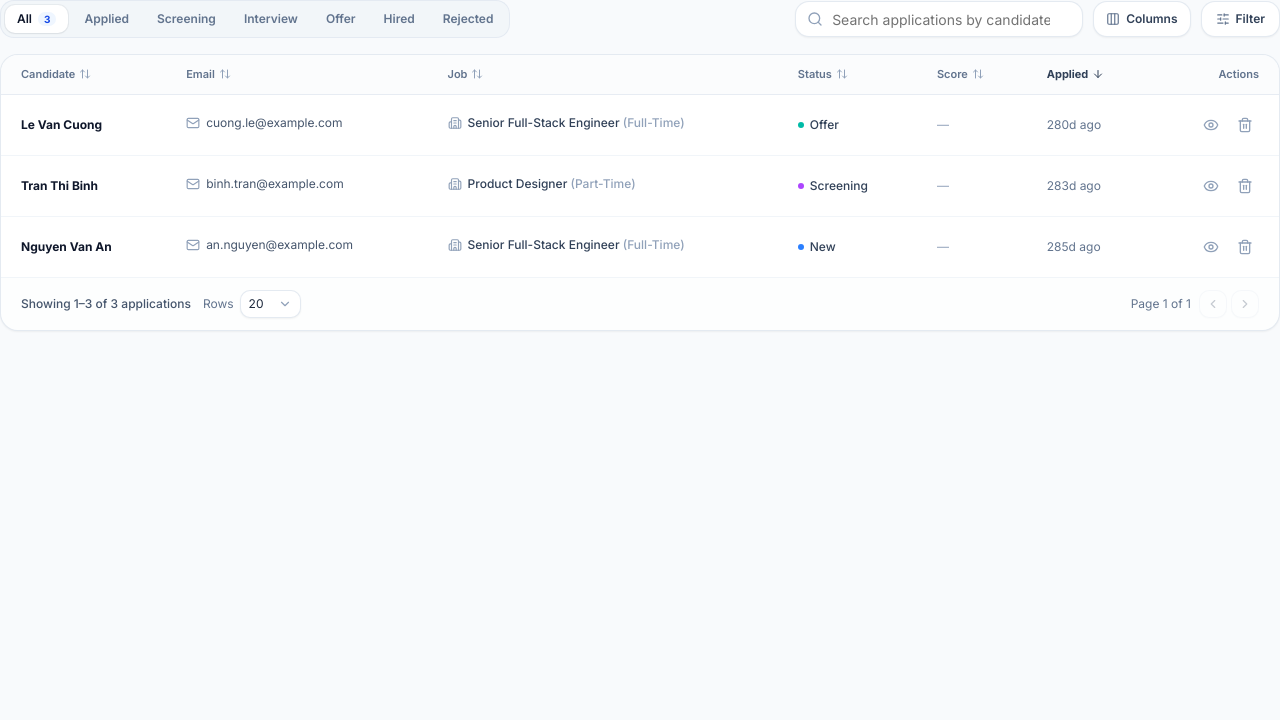
Test case: ApplicationsDataTable Component › 4. Filtering & Search › filters by match score in filter drawer and resets secondary filters
Click the button "Filter" at (1240, 19), box [1200,1,1279,37]
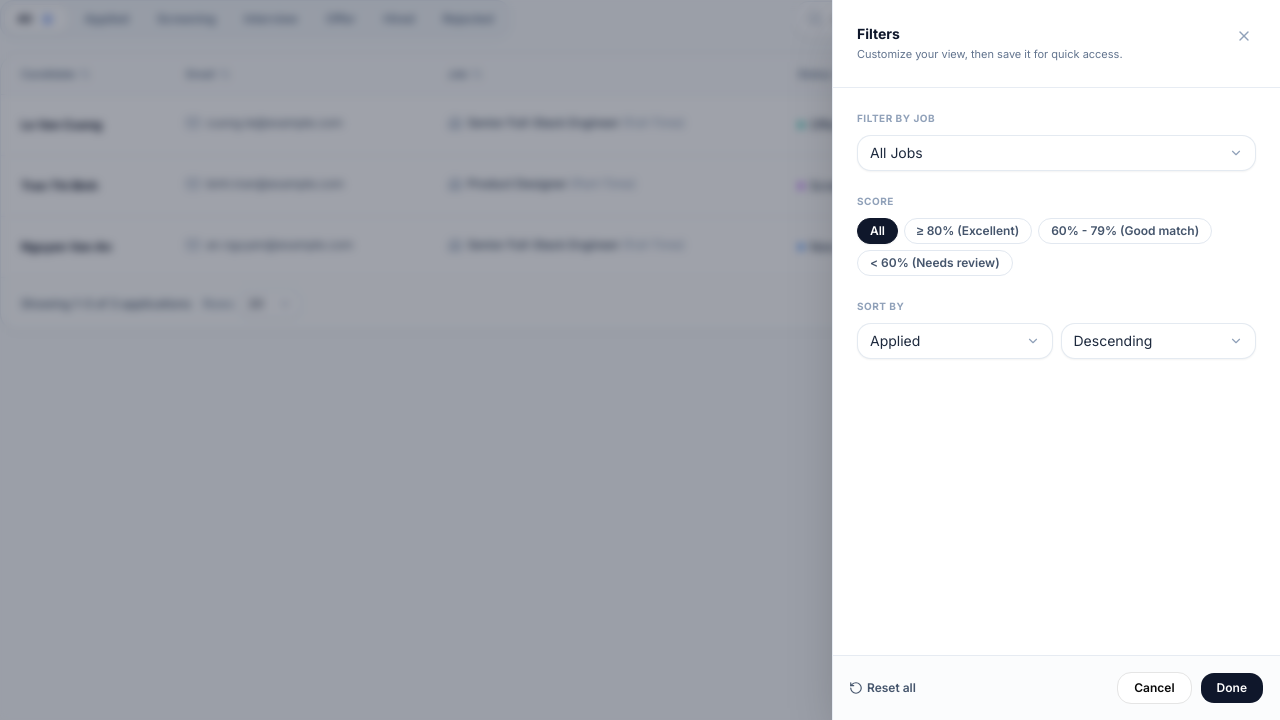
Click the button "≥ 80% (Excellent)" at (968, 231), box [904,218,1032,244]
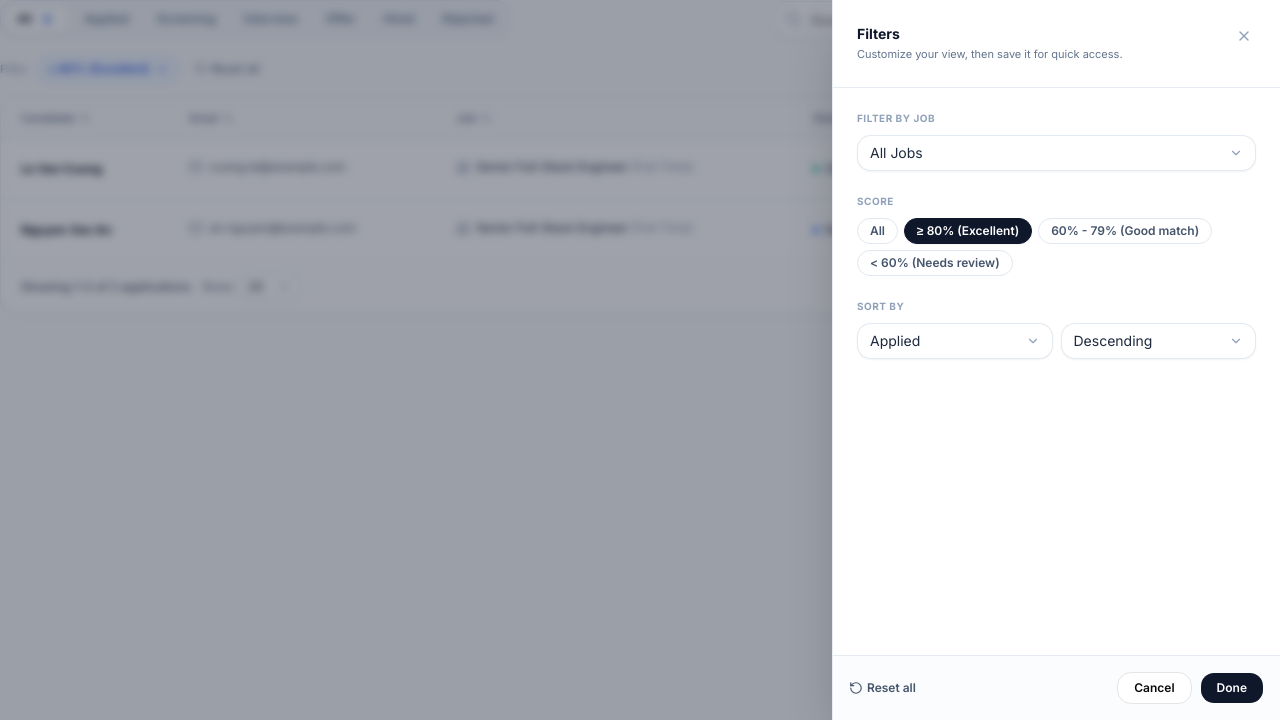
# Close drawer with Done
Click the button "Done" at (1232, 688), box [1200,672,1264,704]
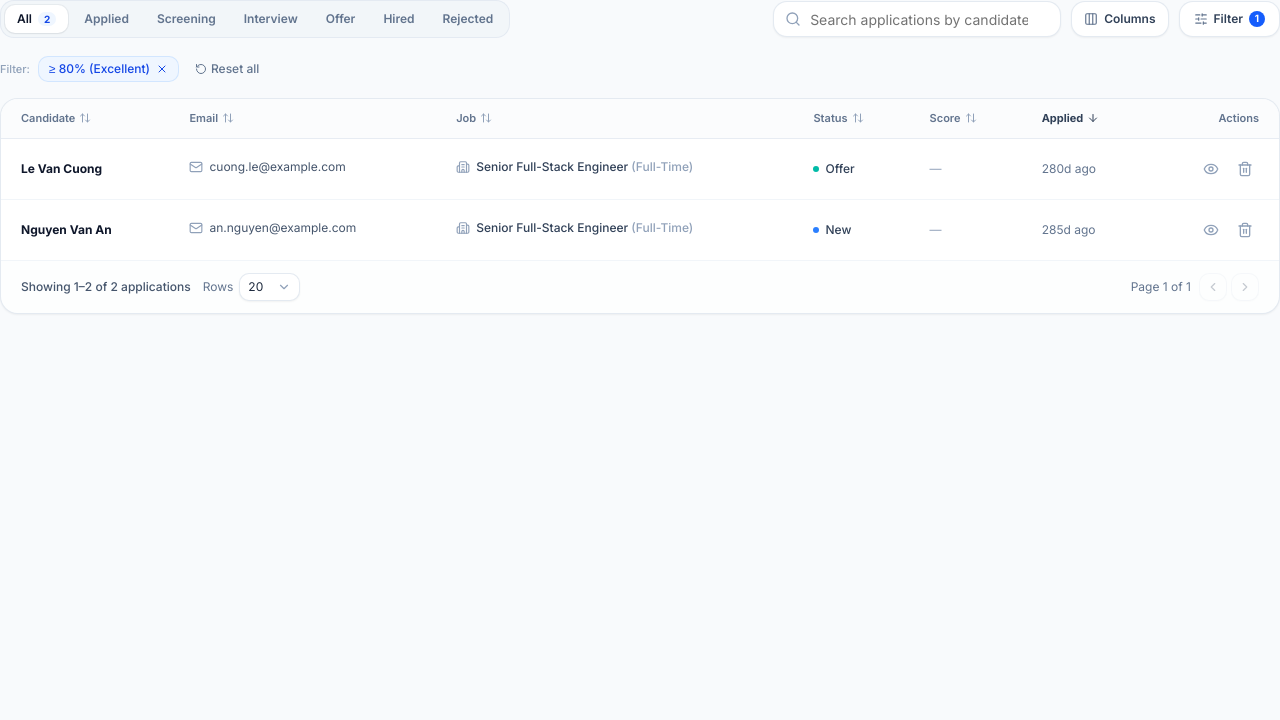
Expected: the button "Le Van Cuong" is shown, [21,161,102,177]
Now the text "≥ 80% (Excellent)" is shown, box [49,61,150,77]
# Reset all filters
Click the button "Reset all" at (227, 69), box [187,57,267,81]
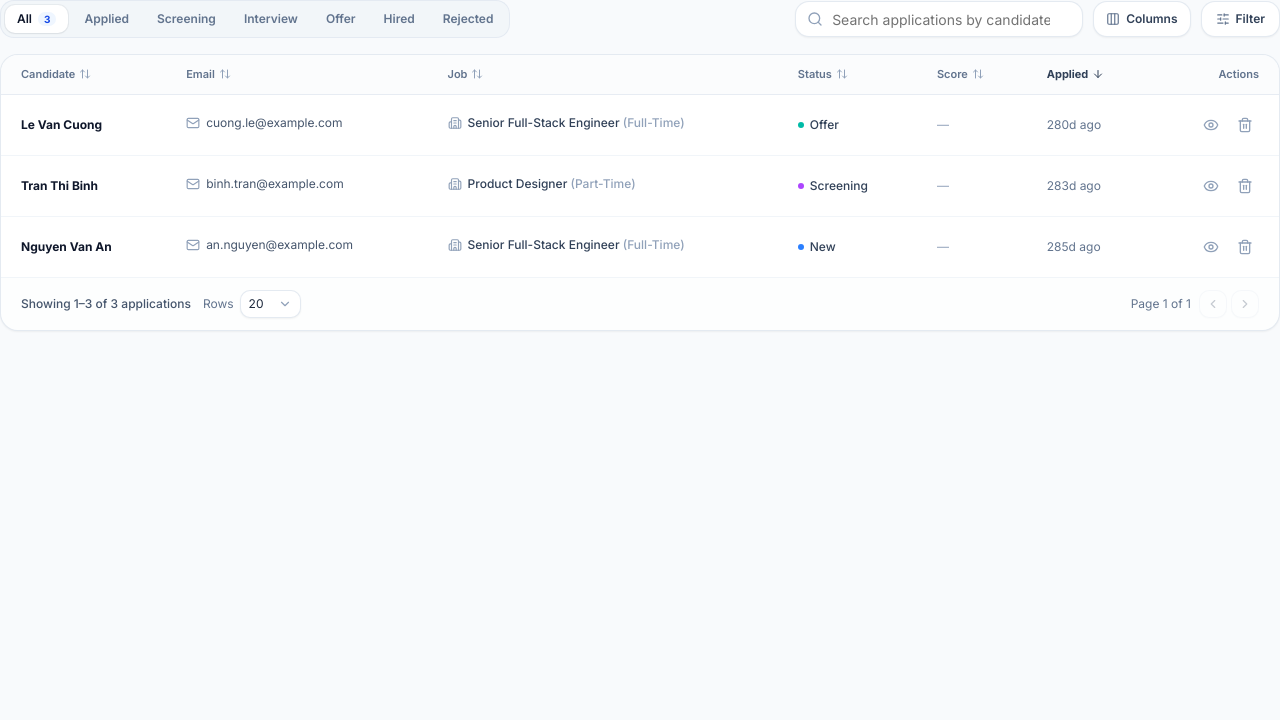
Now the button "Tran Thi Binh" is shown, box [21,178,98,194]
